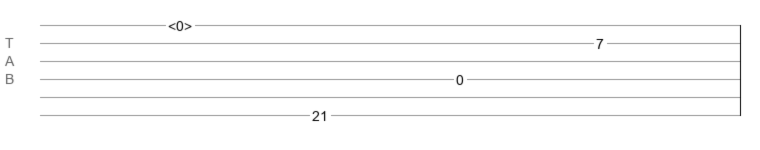0: (456, 72, 464, 82)
21: (312, 108, 328, 118)
7: (596, 36, 604, 46)
harmonic: (168, 18, 192, 28)
